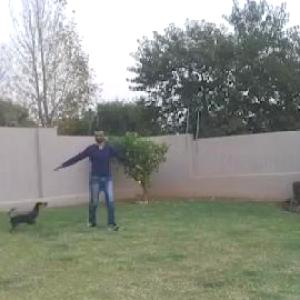land: (61, 125, 142, 221)
